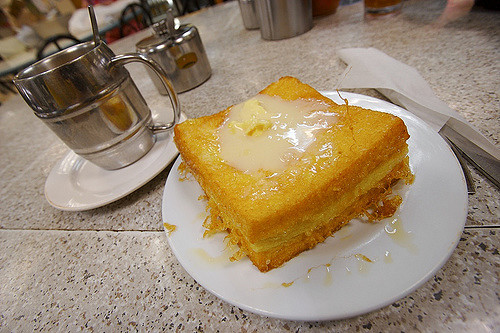slice of bread: (148, 94, 422, 254)
